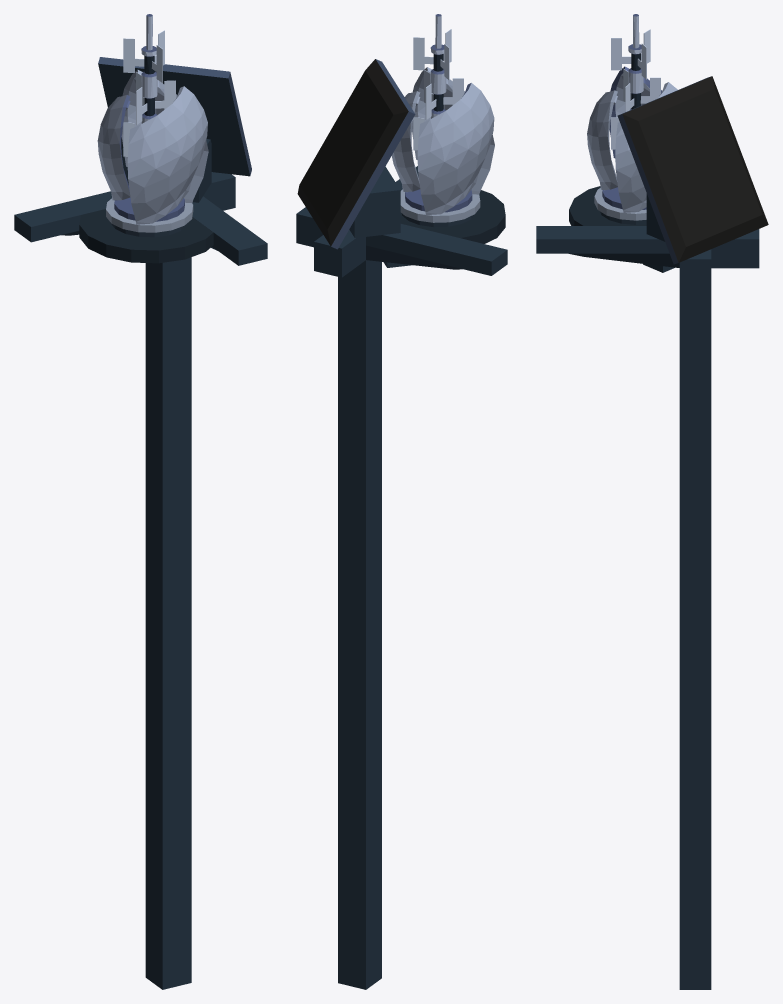
Rendered from C_Street_Lamp_Post.fbx.
3 renders of one model, left to right at view 1: azimuth 30°, elevation 25°; view 2: azimuth 150°, elevation 25°; view 3: azimuth 270°, elevation 25°, orthographic. The views are drawn at different scales.
Parts seen in each view (by area): view 1: street_lamp_sun_generator, wind_generator; view 2: street_lamp_sun_generator, wind_generator; view 3: street_lamp_sun_generator, wind_generator.
Part boxes in pixels (x1,y1,x2,y2): street_lamp_sun_generator: (14,57,267,989); wind_generator: (97,14,208,237); street_lamp_sun_generator: (296,59,507,989); wind_generator: (391,14,494,227); street_lamp_sun_generator: (536,76,768,989); wind_generator: (587,14,677,224).
Size of the model in its own units: 1.51 by 1.46 by 6.54.
